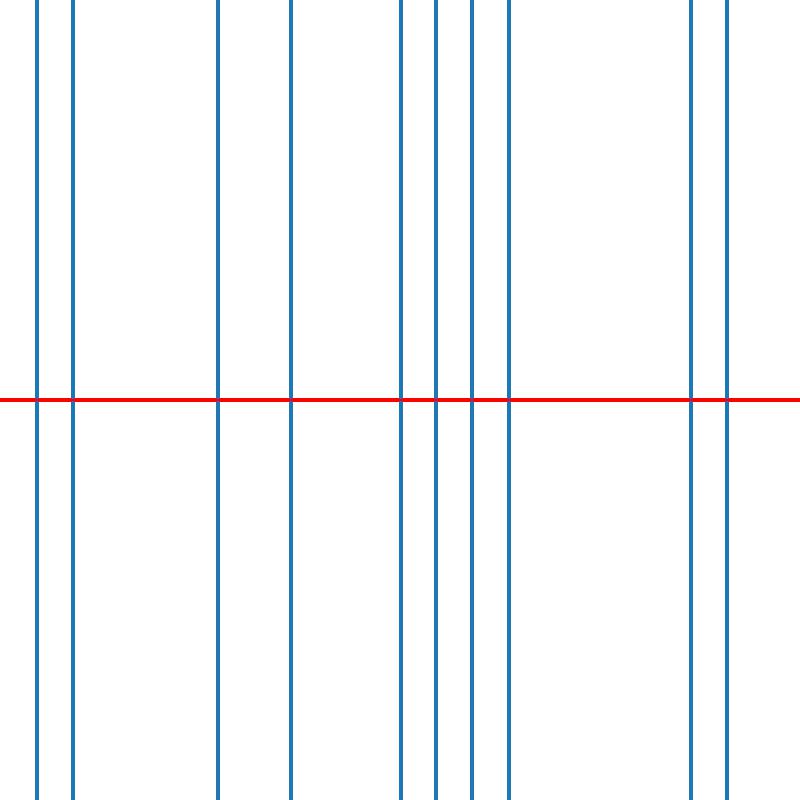root: (32, 396, 40, 404), (432, 396, 440, 404), (396, 396, 403, 404), (469, 396, 476, 404), (214, 396, 221, 404), (505, 396, 512, 404), (723, 396, 730, 404), (69, 396, 76, 404), (287, 396, 294, 404), (687, 396, 694, 404)
